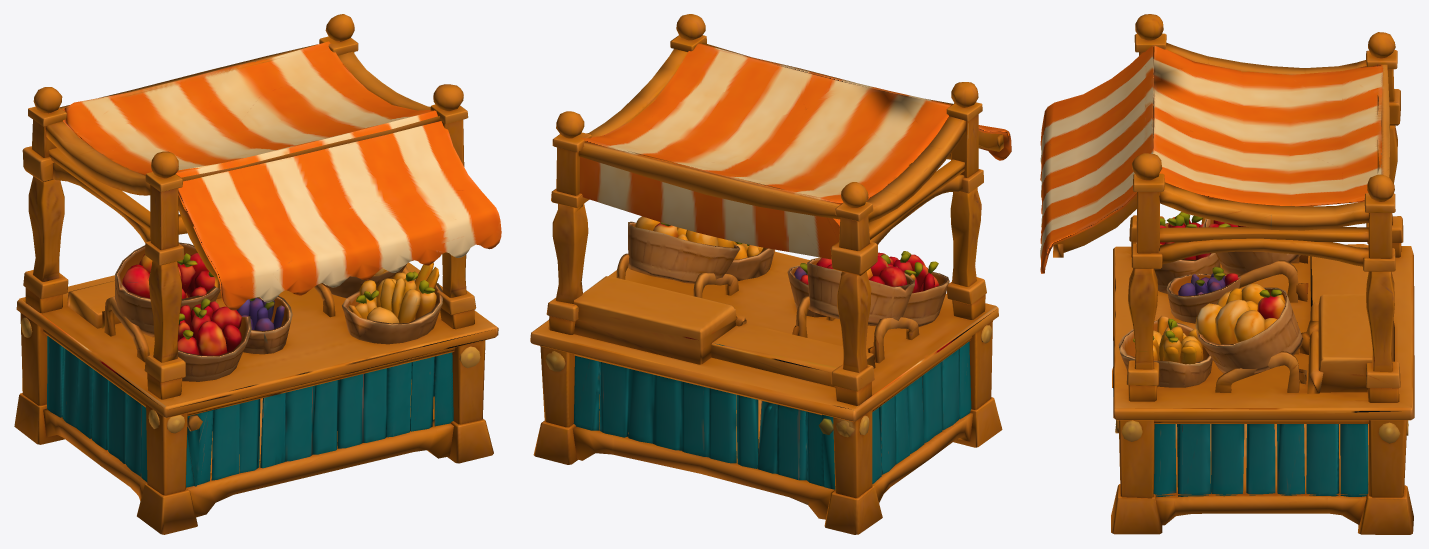
The model's file is market_stall.glb.
3 renders of one model, left to right at view 1: azimuth 30°, elevation 25°; view 2: azimuth 150°, elevation 25°; view 3: azimuth 270°, elevation 25°, orthographic. The views are drawn at different scales.
Visible parts, largest first — view 1: geometry_0; view 2: geometry_0; view 3: geometry_0.
Boxes of the visible parts, bbox=[...] form: geometry_0: bbox=[14, 14, 501, 534]; geometry_0: bbox=[530, 14, 1011, 534]; geometry_0: bbox=[1040, 14, 1414, 534].
Size of the model in its own units: 0.9802 by 1 by 0.9328.
1 material, 1 textured.
